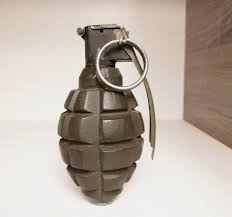e1: (58, 25, 157, 205)
